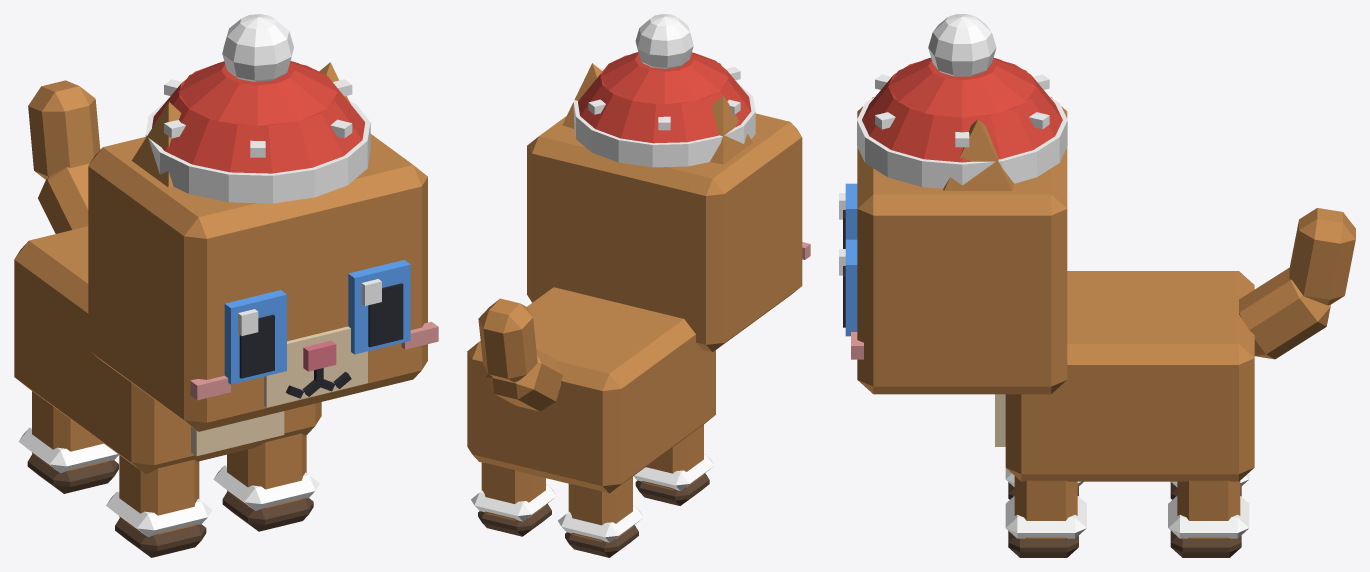
File: CatCafe_Cat_SnowBoots.fbx
3 views of the same model, side by side, from view 1: azimuth 30°, elevation 25°; view 2: azimuth 150°, elevation 25°; view 3: azimuth 270°, elevation 25° (orthographic). The views are drawn at different scales.
Parts seen in each view (by area): view 1: CatCafe_Cat_SnowBoots_Head, CatCafe_Cat_SnowBoots_Prop, CatCafe_Cat_SnowBoots_Body, CatCafe_Cat_SnowBoots_Tail, CatCafe_Cat_SnowBoots_LegF2, CatCafe_Cat_SnowBoots_LegF1, CatCafe_Cat_SnowBoots_LegB2, CatCafe_Cat_SnowBoots_Eye2, CatCafe_Cat_SnowBoots_Eye1, CatCafe_Cat_SnowBoots_EarR; view 2: CatCafe_Cat_SnowBoots_Head, CatCafe_Cat_SnowBoots_Body, CatCafe_Cat_SnowBoots_Prop, CatCafe_Cat_SnowBoots_Tail, CatCafe_Cat_SnowBoots_LegB2, CatCafe_Cat_SnowBoots_LegB1, CatCafe_Cat_SnowBoots_LegF2, CatCafe_Cat_SnowBoots_EarR, CatCafe_Cat_SnowBoots_EarL; view 3: CatCafe_Cat_SnowBoots_Head, CatCafe_Cat_SnowBoots_Body, CatCafe_Cat_SnowBoots_Prop, CatCafe_Cat_SnowBoots_Tail, CatCafe_Cat_SnowBoots_LegF1, CatCafe_Cat_SnowBoots_LegB1, CatCafe_Cat_SnowBoots_EarL, CatCafe_Cat_SnowBoots_Eye1, CatCafe_Cat_SnowBoots_Eye2.
Part boxes in pixels (<box>): CatCafe_Cat_SnowBoots_Head: <box>88,134,438,431</box>; CatCafe_Cat_SnowBoots_Prop: <box>145,14,370,203</box>; CatCafe_Cat_SnowBoots_Body: <box>14,226,321,474</box>; CatCafe_Cat_SnowBoots_Tail: <box>28,80,100,233</box>; CatCafe_Cat_SnowBoots_LegF2: <box>106,455,212,557</box>; CatCafe_Cat_SnowBoots_LegF1: <box>213,433,319,531</box>; CatCafe_Cat_SnowBoots_LegB2: <box>18,391,118,493</box>; CatCafe_Cat_SnowBoots_Eye2: <box>224,290,286,384</box>; CatCafe_Cat_SnowBoots_Eye1: <box>348,260,410,354</box>; CatCafe_Cat_SnowBoots_EarR: <box>131,102,181,187</box>; CatCafe_Cat_SnowBoots_Head: <box>527,113,810,352</box>; CatCafe_Cat_SnowBoots_Body: <box>467,287,715,493</box>; CatCafe_Cat_SnowBoots_Prop: <box>573,14,755,167</box>; CatCafe_Cat_SnowBoots_Tail: <box>478,298,563,411</box>; CatCafe_Cat_SnowBoots_LegB2: <box>558,476,643,557</box>; CatCafe_Cat_SnowBoots_LegB1: <box>471,462,556,536</box>; CatCafe_Cat_SnowBoots_LegF2: <box>633,424,714,505</box>; CatCafe_Cat_SnowBoots_EarR: <box>710,95,752,164</box>; CatCafe_Cat_SnowBoots_EarL: <box>562,63,602,128</box>; CatCafe_Cat_SnowBoots_Head: <box>851,97,1067,394</box>; CatCafe_Cat_SnowBoots_Body: <box>995,271,1254,481</box>; CatCafe_Cat_SnowBoots_Prop: <box>857,14,1067,188</box>; CatCafe_Cat_SnowBoots_Tail: <box>1239,208,1355,359</box>; CatCafe_Cat_SnowBoots_LegF1: <box>1005,476,1086,557</box>; CatCafe_Cat_SnowBoots_LegB1: <box>1168,480,1249,557</box>; CatCafe_Cat_SnowBoots_EarL: <box>943,119,1013,190</box>; CatCafe_Cat_SnowBoots_Eye1: <box>839,239,857,336</box>; CatCafe_Cat_SnowBoots_Eye2: <box>839,183,857,248</box>.
Size of the model in its own units: 1 by 2.13 by 1.97.
1 material, 1 textured.
